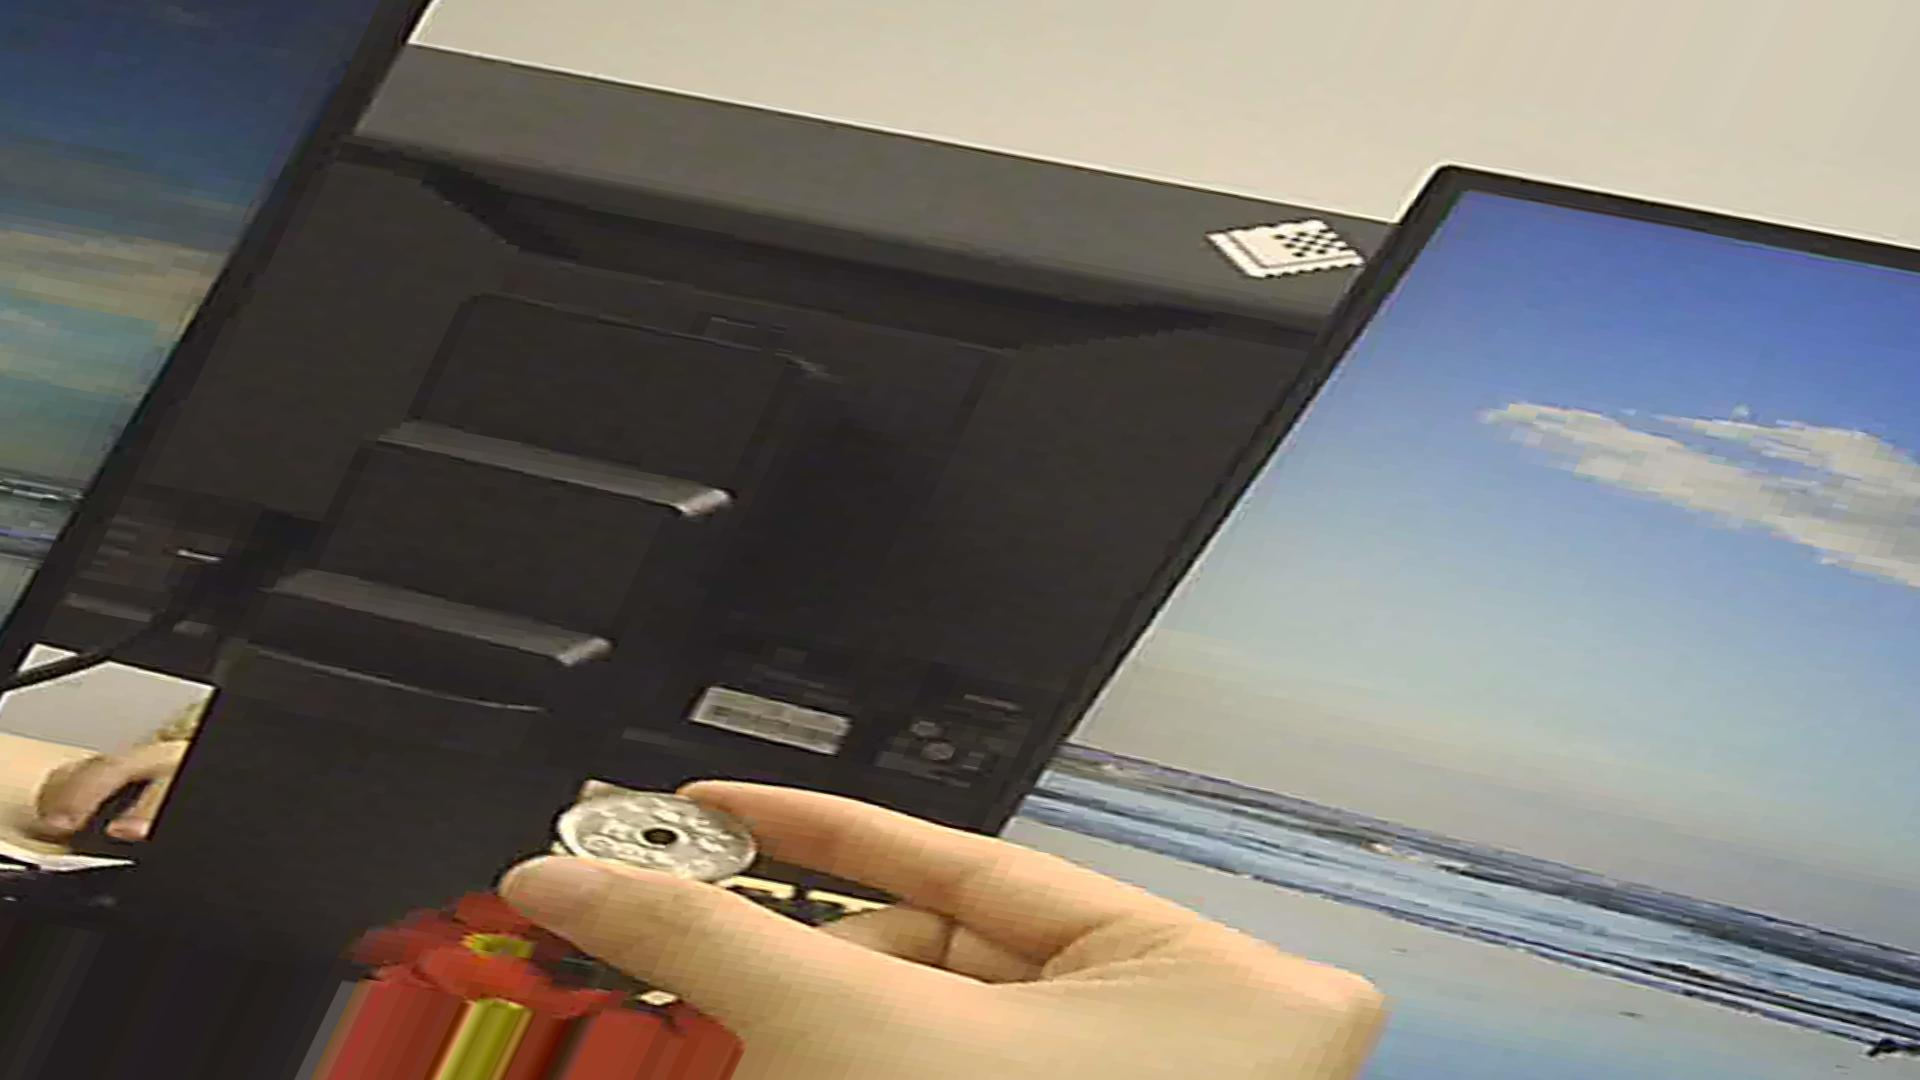50 Yen: (541, 791, 760, 895)
